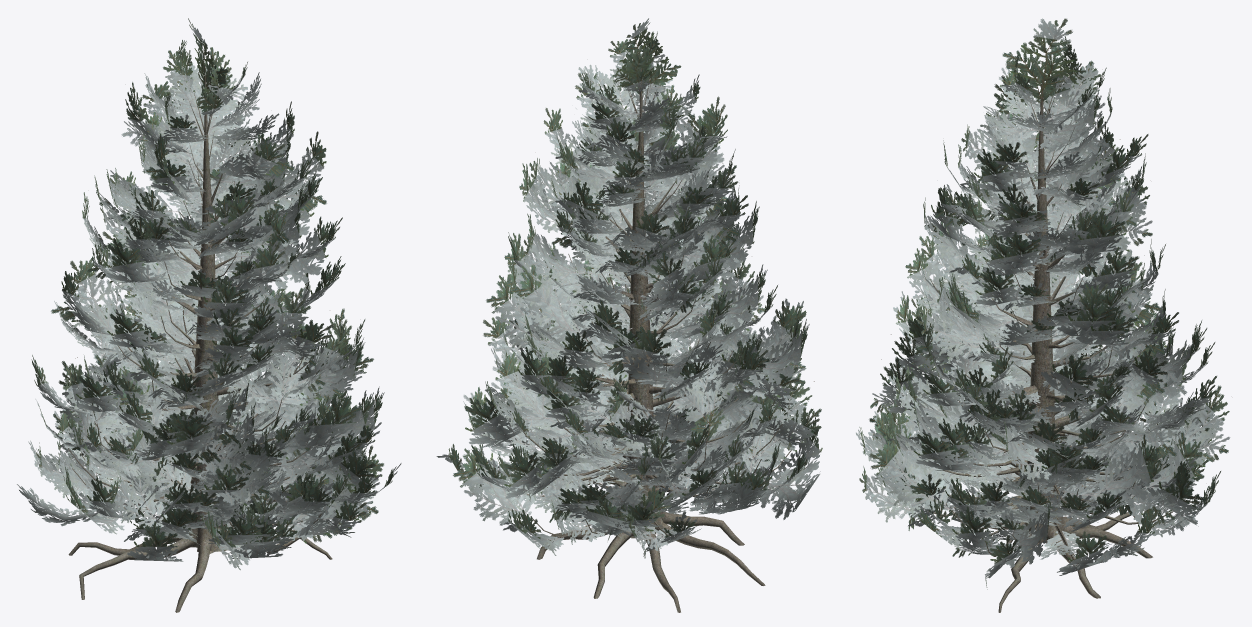
File: Fir_Winter.fbx
The picture shows the model from 3 angles, left to right: view 1: azimuth 30°, elevation 25°; view 2: azimuth 150°, elevation 25°; view 3: azimuth 270°, elevation 25°; orthographic projection.
Parts seen in each view (by area): view 1: Fir_Winter_LOD0; view 2: Fir_Winter_LOD0; view 3: Fir_Winter_LOD0.
Boxes of the visible parts, x1,y1,x2,y2 form: Fir_Winter_LOD0: [17, 18, 401, 612]; Fir_Winter_LOD0: [436, 18, 822, 612]; Fir_Winter_LOD0: [856, 18, 1230, 612].
Size of what is drawn, in the model's own units: 12.26 by 18 by 11.51.
